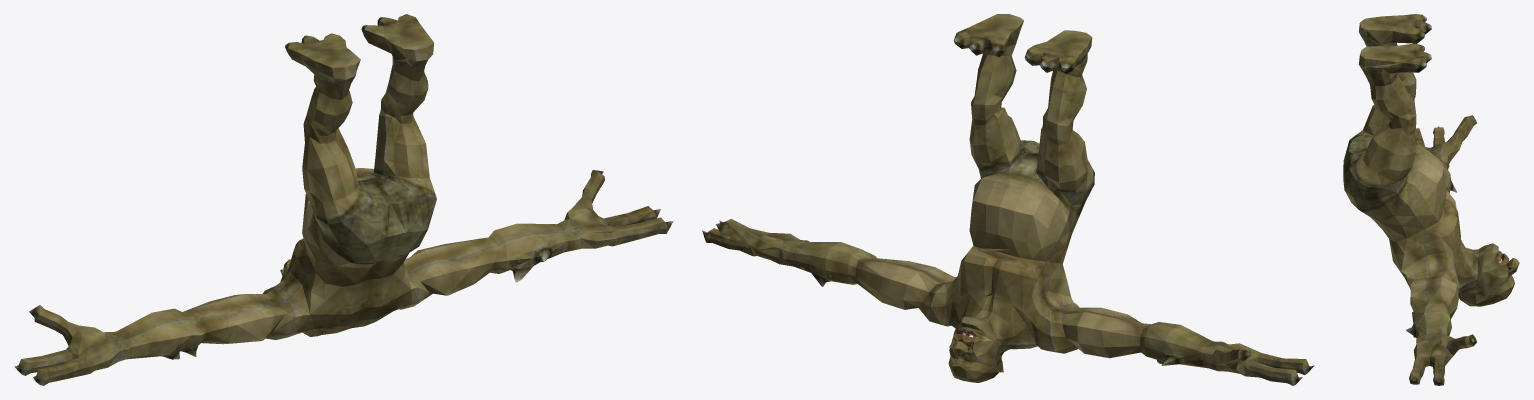
Rendered from troll.glb.
3 views of the same model, side by side, from view 1: azimuth 30°, elevation 25°; view 2: azimuth 150°, elevation 25°; view 3: azimuth 270°, elevation 25° (orthographic). The views are drawn at different scales.
Parts seen in each view (by area): view 1: troll.obj; view 2: troll.obj; view 3: troll.obj.
Part boxes in pixels (x1,y1,x2,y2): troll.obj: (14, 14, 673, 385); troll.obj: (702, 14, 1314, 385); troll.obj: (1343, 14, 1519, 385).
Bounding box in the file's own units: 1 × 0.4873 × 0.2926.
Materials: 1 (1 with a texture image).
